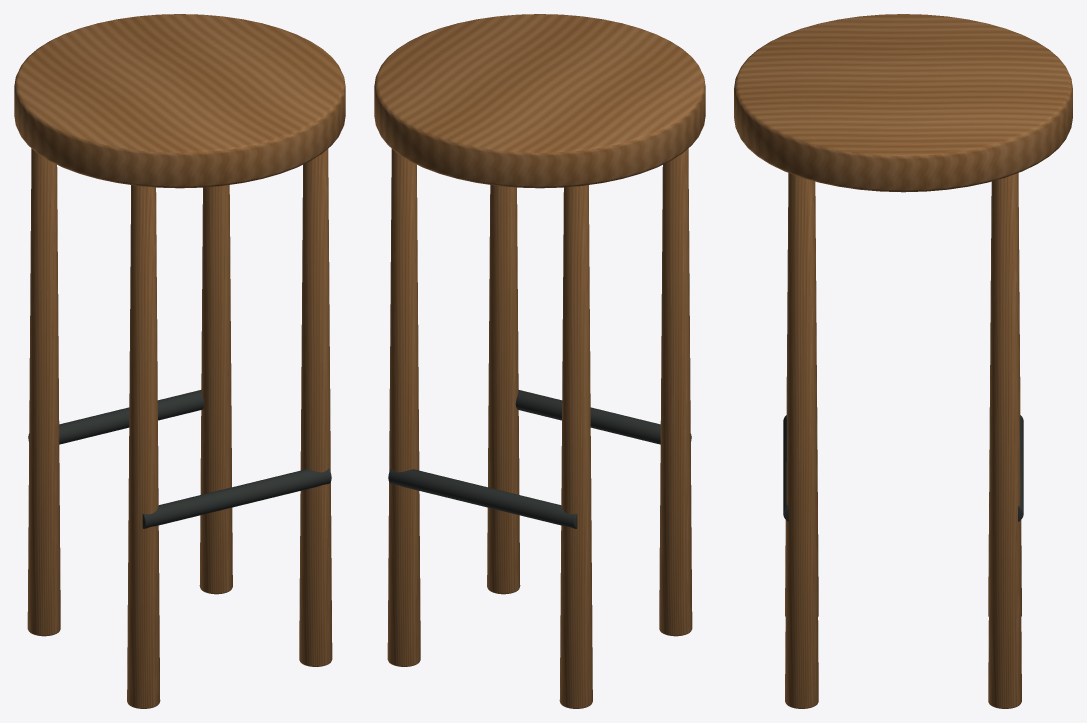
File: bar-stool.glb
3 views of the same model, side by side, from view 1: azimuth 30°, elevation 25°; view 2: azimuth 150°, elevation 25°; view 3: azimuth 270°, elevation 25° (orthographic). The views are drawn at different scales.
Parts seen in each view (by area): view 1: bar-stool-mesh; view 2: bar-stool-mesh; view 3: bar-stool-mesh.
Boxes of the visible parts, box(x1,y1,x2,y2) form: bar-stool-mesh: box(14, 14, 345, 708); bar-stool-mesh: box(374, 14, 705, 708); bar-stool-mesh: box(734, 14, 1072, 708).
Bounding box in the file's own units: 0.4 × 0.75 × 0.4.
2 materials, 1 textured.
